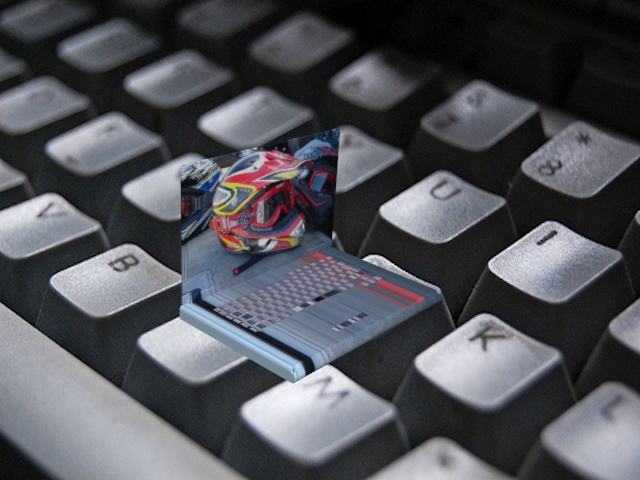laptop_computer: (176, 128, 449, 385)
